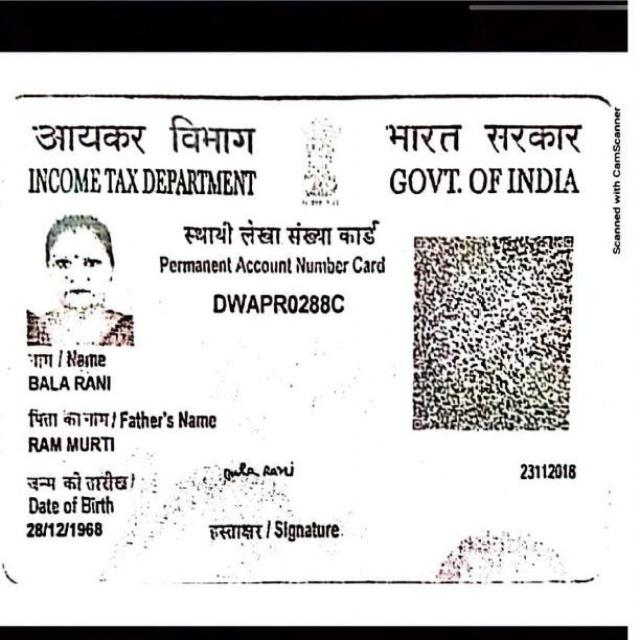pan_card: (3, 97, 611, 581)
